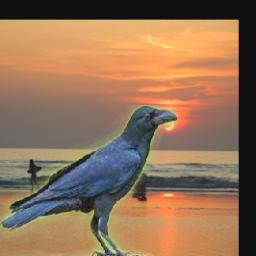Crow: (0, 106, 177, 256)
